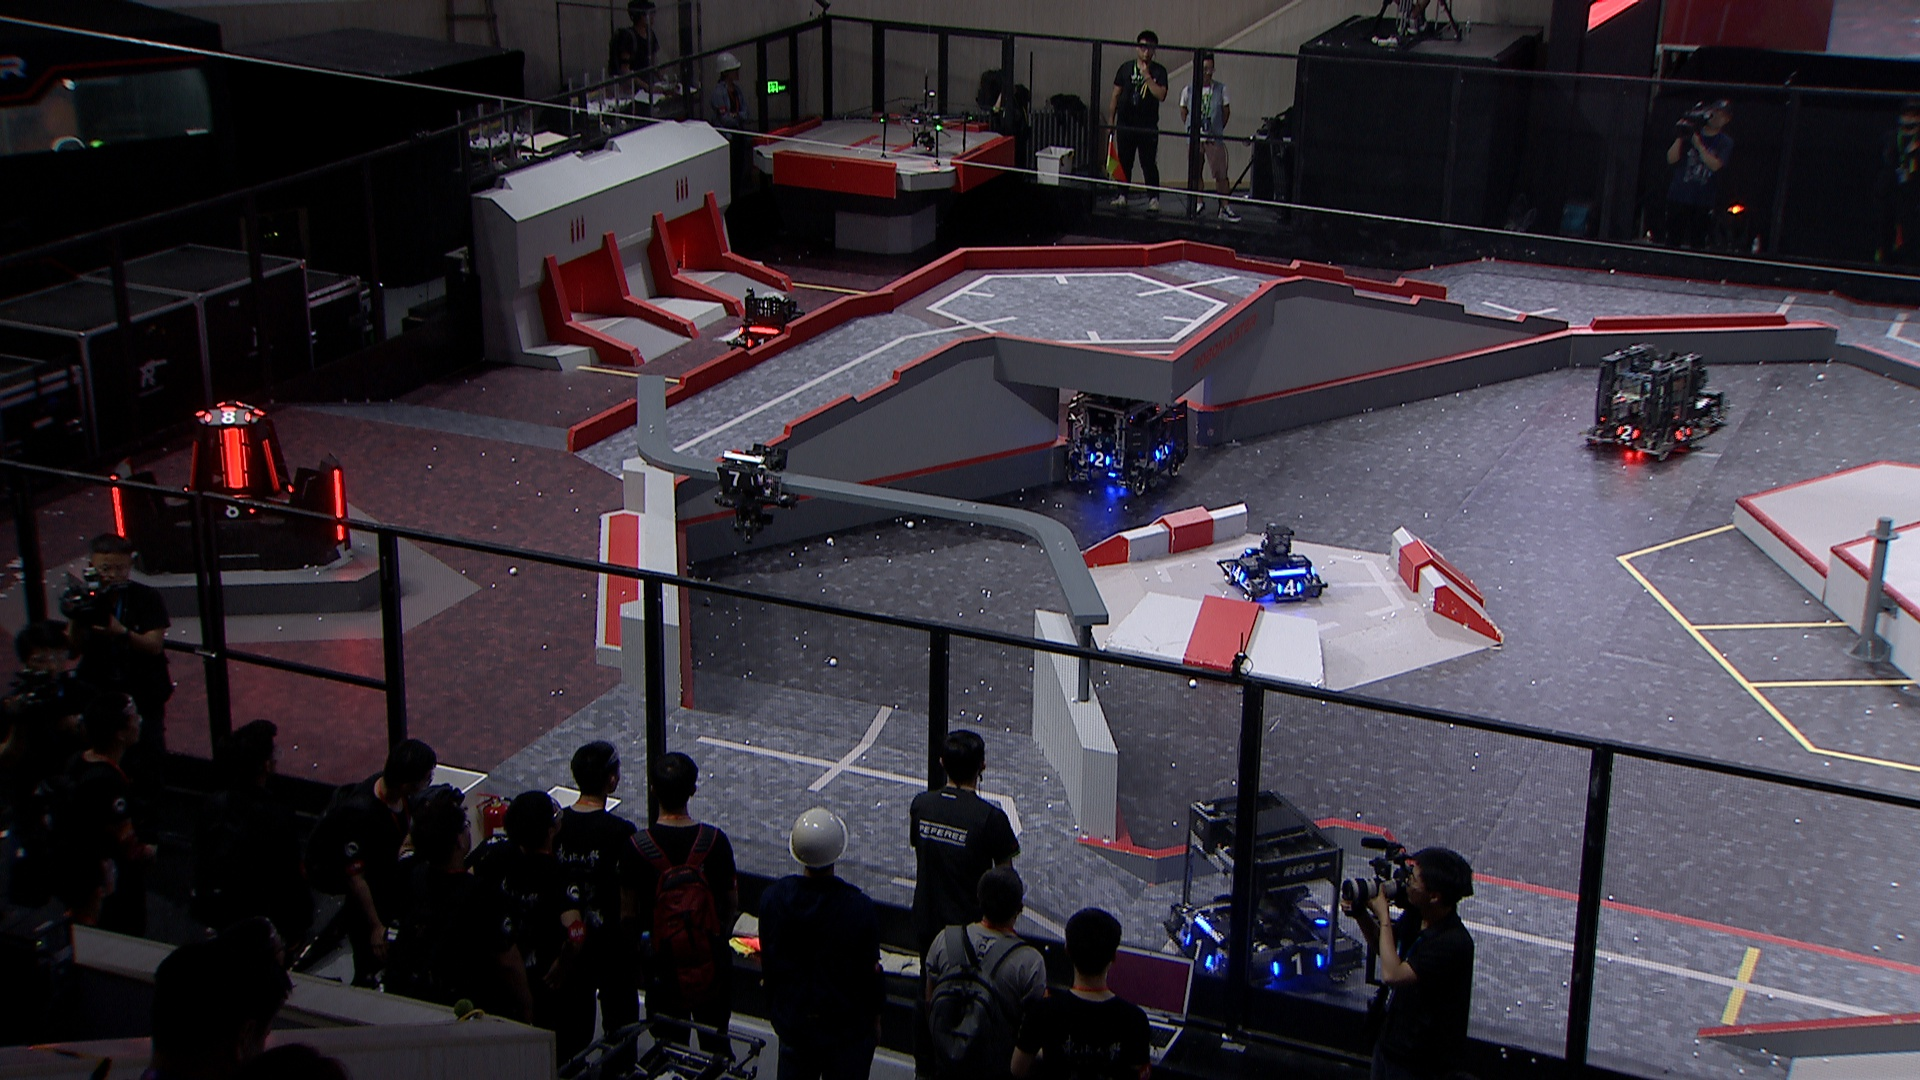armor: (216, 429, 251, 493), (328, 469, 352, 547), (105, 471, 129, 541), (1269, 953, 1327, 978), (1182, 931, 1215, 971), (261, 436, 281, 493), (200, 409, 253, 427), (183, 439, 200, 495), (1299, 901, 1331, 928), (713, 469, 757, 489), (218, 502, 256, 520), (1084, 451, 1114, 469), (1276, 579, 1304, 597), (1614, 425, 1640, 443), (1671, 425, 1693, 443), (1153, 443, 1174, 462), (1229, 562, 1247, 582), (744, 335, 769, 349)
base: (102, 400, 353, 575)
car: (1162, 789, 1367, 996), (1578, 343, 1705, 465), (1062, 382, 1191, 495), (1215, 520, 1331, 603), (727, 284, 818, 367), (1660, 381, 1731, 439)
watcher: (709, 440, 796, 538)
